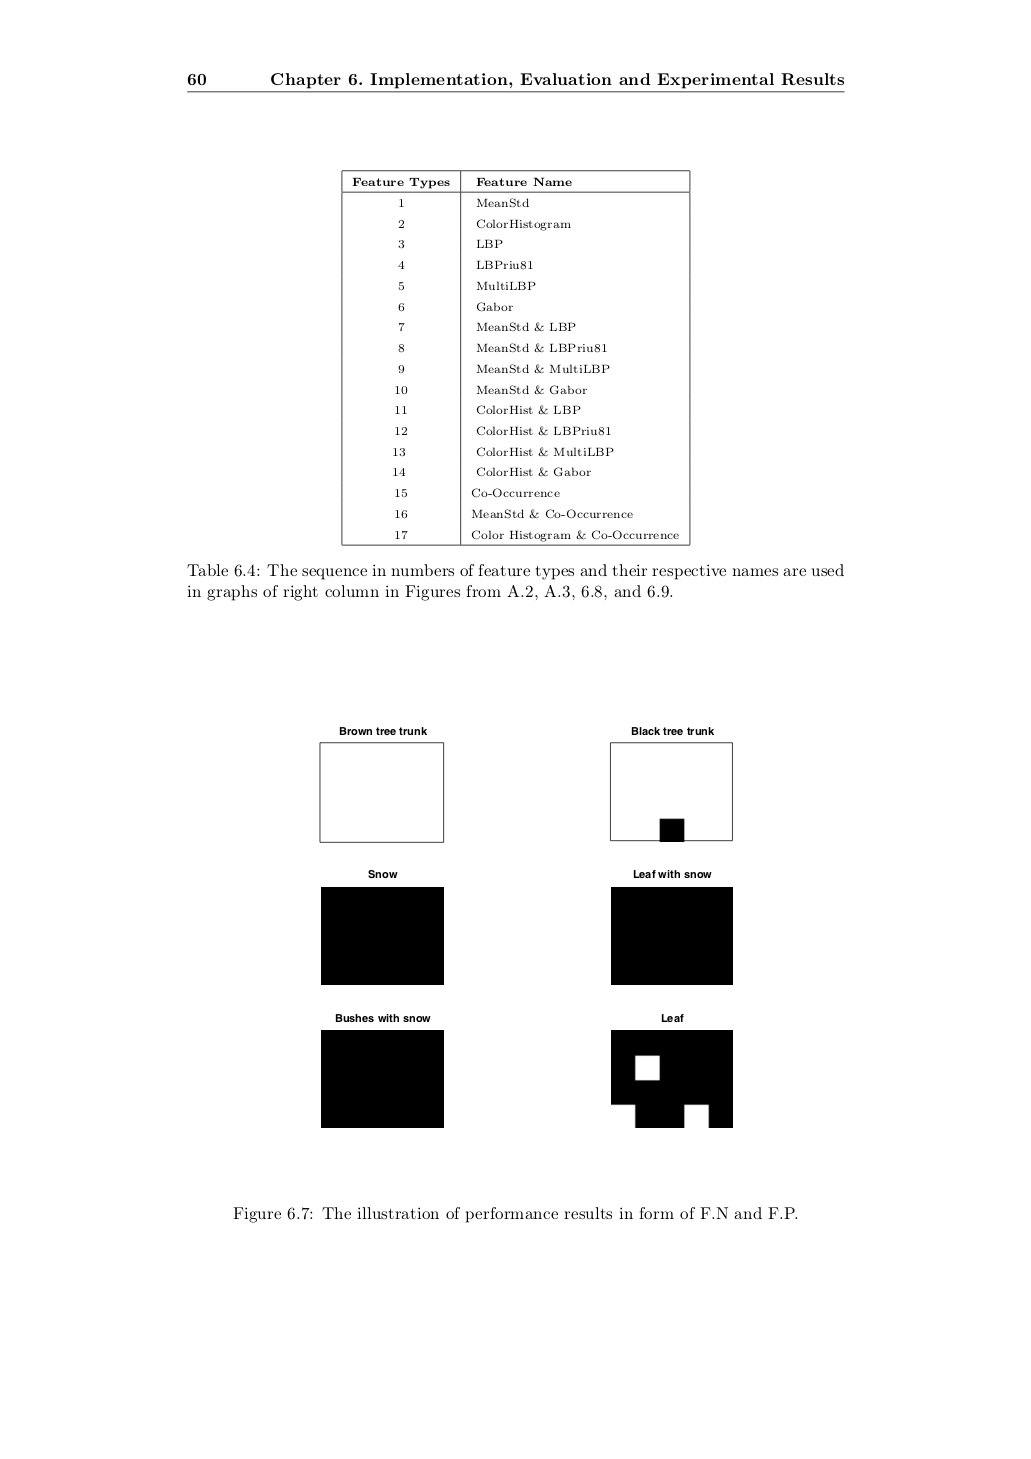Table: (341, 170, 690, 545)
figure: (319, 741, 444, 843), (610, 741, 732, 842), (321, 885, 443, 985), (611, 885, 732, 985), (321, 1028, 443, 1128), (611, 1028, 732, 1128)
